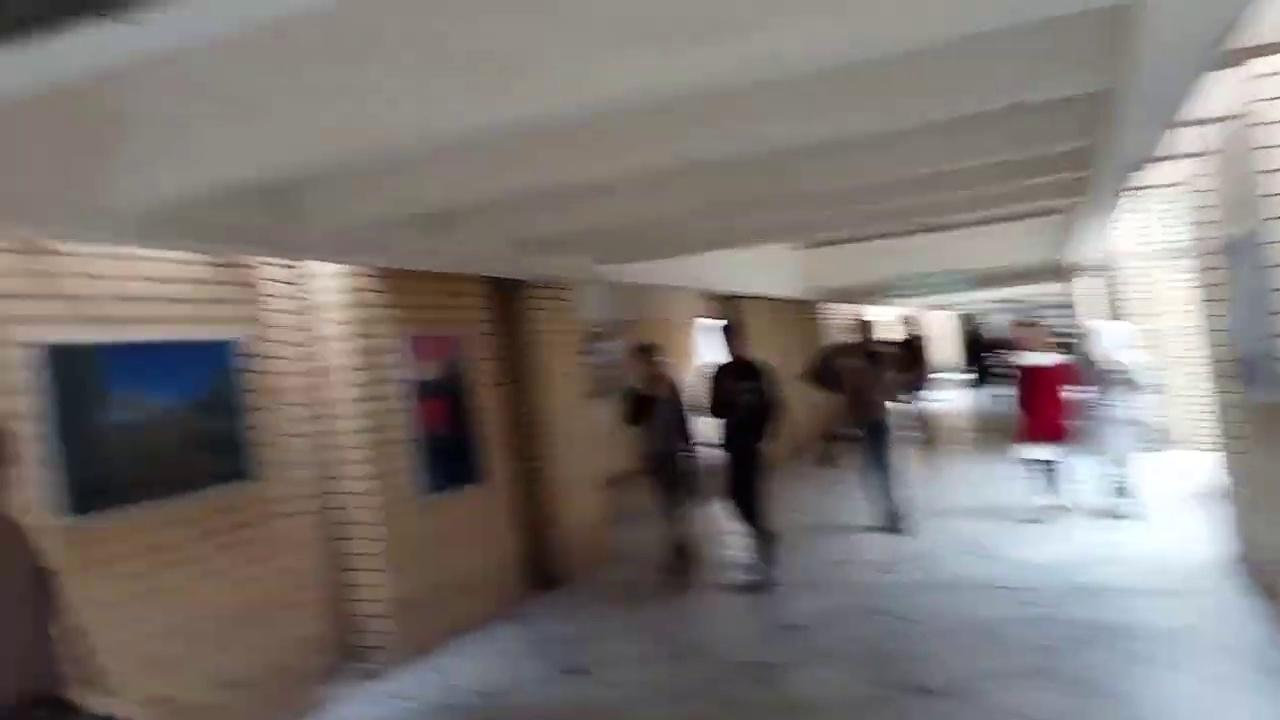person: (801, 317, 928, 533), (709, 320, 784, 587), (619, 341, 697, 577), (1006, 320, 1082, 517), (963, 313, 989, 386)
